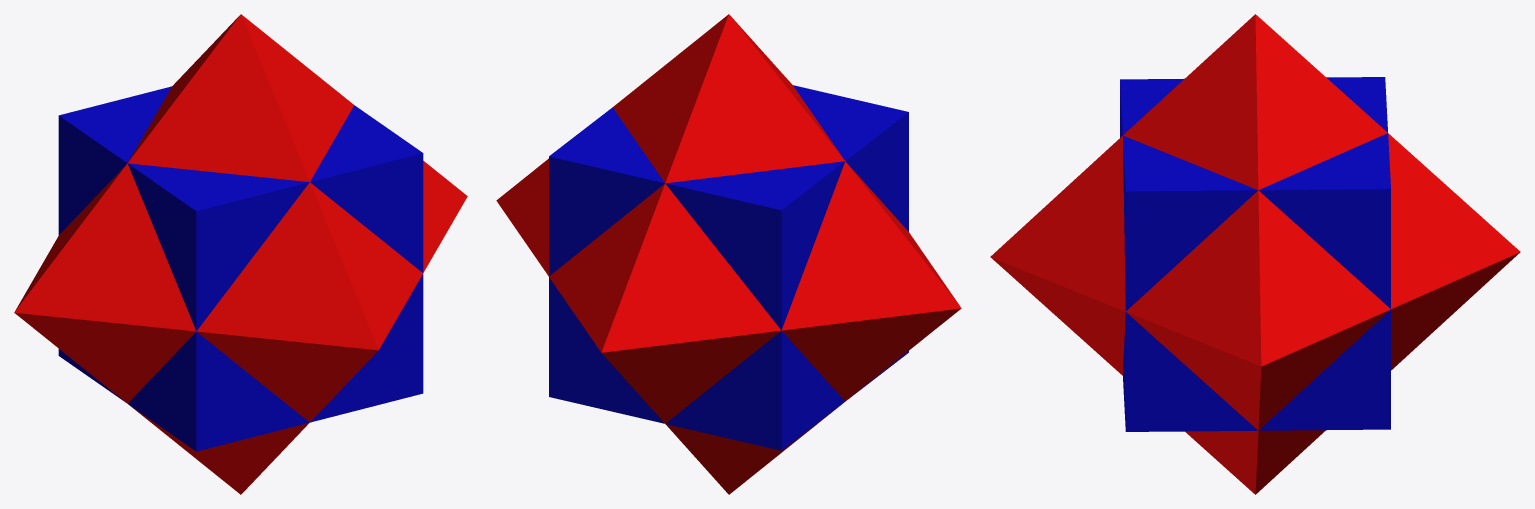
3 renders of one model, left to right at view 1: azimuth 30°, elevation 25°; view 2: azimuth 150°, elevation 25°; view 3: azimuth 270°, elevation 25°, orthographic.
Parts seen in each view (by area): view 1: oct, cube; view 2: oct, cube; view 3: oct, cube.
Boxes of the visible parts, x1,y1,x2,y2 form: oct: (14,14,467,494); cube: (58,86,423,451); oct: (496,14,961,494); cube: (549,85,908,450); oct: (990,14,1520,494); cube: (1120,77,1390,431).
Size of the model in its own units: 2 by 2 by 2.
